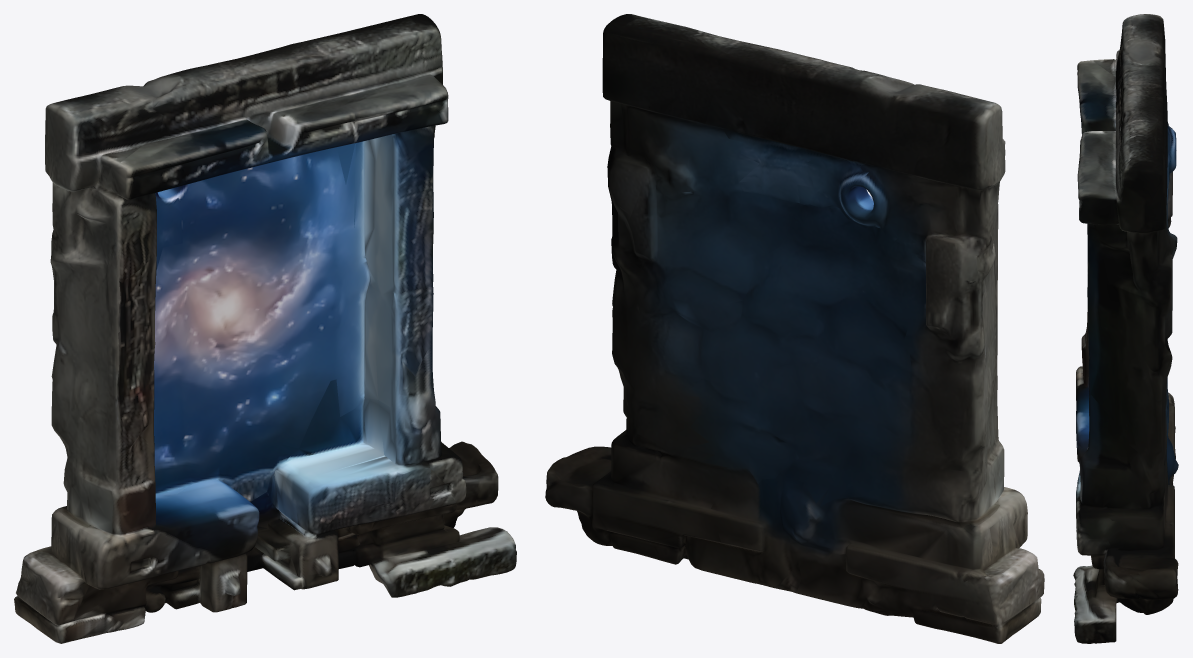
The model's file is asteroide.obj.
The picture shows the model from 3 angles, left to right: view 1: azimuth 30°, elevation 25°; view 2: azimuth 150°, elevation 25°; view 3: azimuth 270°, elevation 25°; orthographic projection. The views are drawn at different scales.
Parts seen in each view (by area): view 1: asteroide; view 2: asteroide; view 3: asteroide.
Boxes of the visible parts, x1,y1,x2,y2 form: asteroide: [14, 14, 516, 643]; asteroide: [545, 14, 1044, 643]; asteroide: [1073, 14, 1178, 643].
Bounding box in the file's own units: 1.4 × 1.59 × 0.3313.
